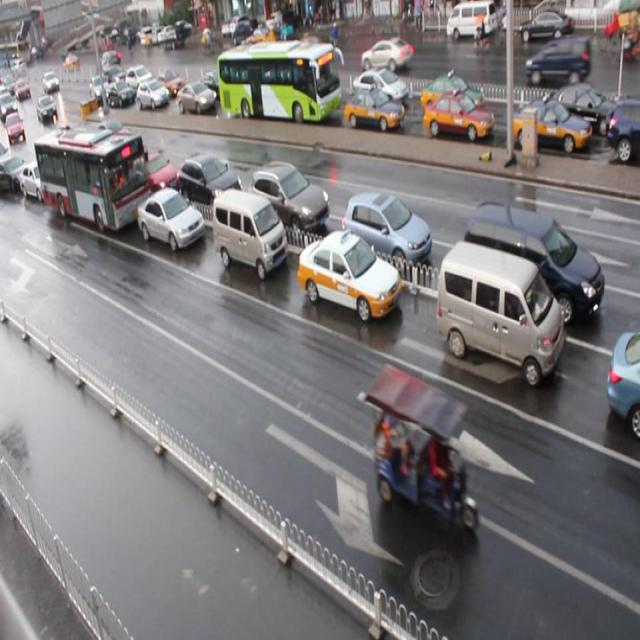car: (298, 228, 401, 322), (342, 192, 432, 276), (250, 161, 330, 234), (512, 98, 592, 156), (538, 84, 622, 138), (137, 186, 205, 251), (178, 151, 244, 213), (606, 329, 640, 435), (424, 92, 494, 140), (344, 84, 404, 133), (427, 74, 490, 118), (352, 68, 407, 107), (606, 97, 640, 159), (138, 146, 181, 195), (21, 157, 58, 202), (92, 119, 136, 154), (84, 132, 122, 171), (280, 67, 321, 102), (177, 81, 217, 116), (1, 152, 30, 194), (138, 79, 168, 111), (156, 70, 184, 98), (202, 70, 228, 98), (106, 81, 133, 107), (126, 64, 153, 89)
truck: (437, 240, 562, 388), (464, 199, 604, 328), (212, 187, 288, 278)
van: (35, 126, 154, 234), (216, 43, 340, 123)
